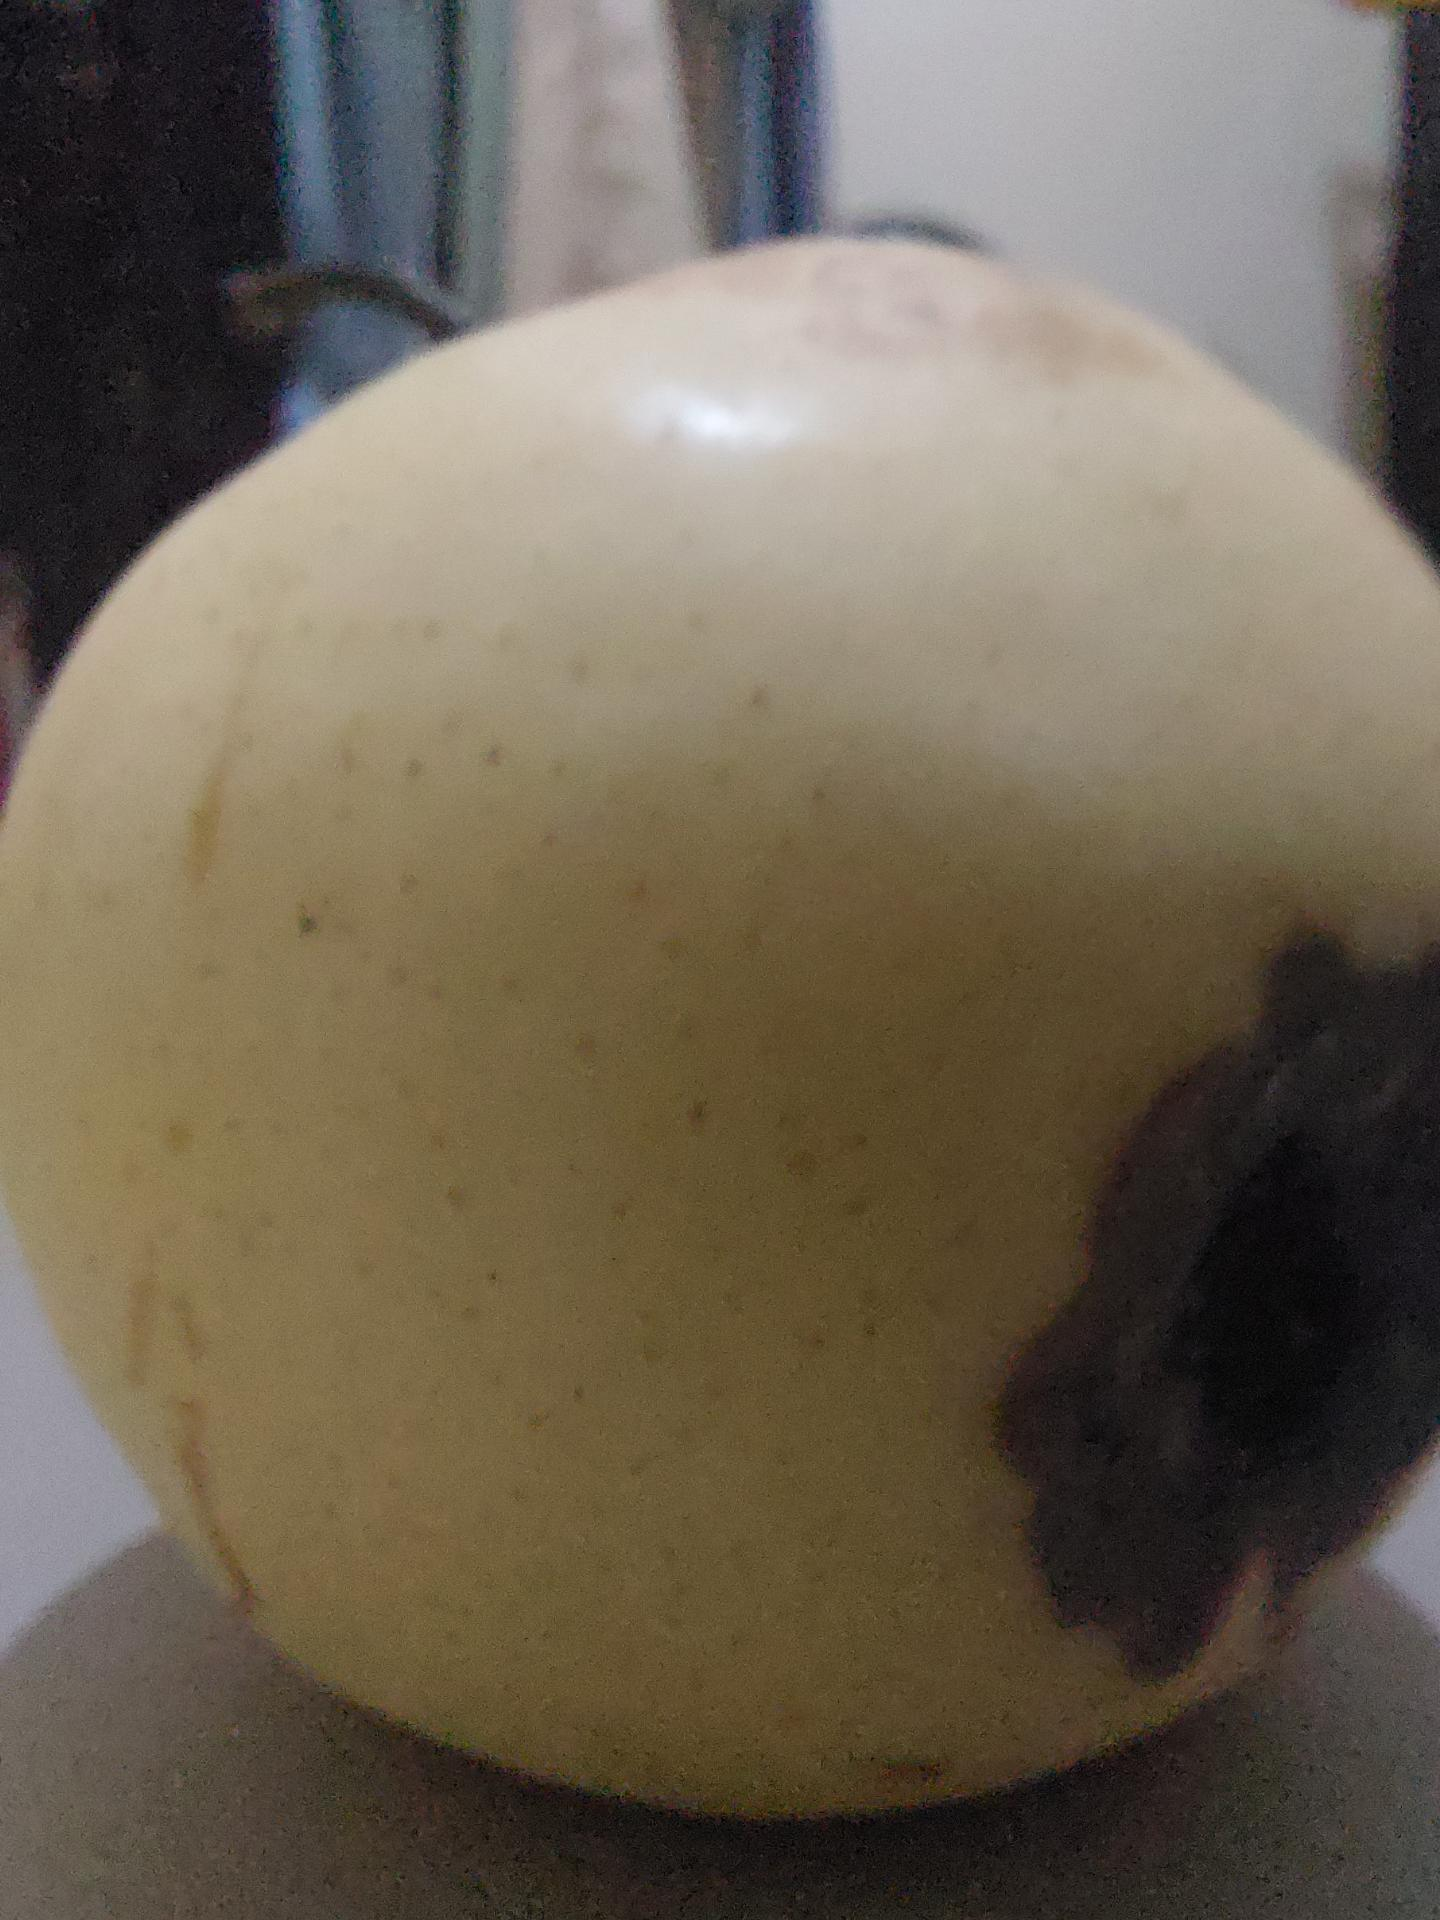Bad Pear: (0, 228, 1440, 1843)
